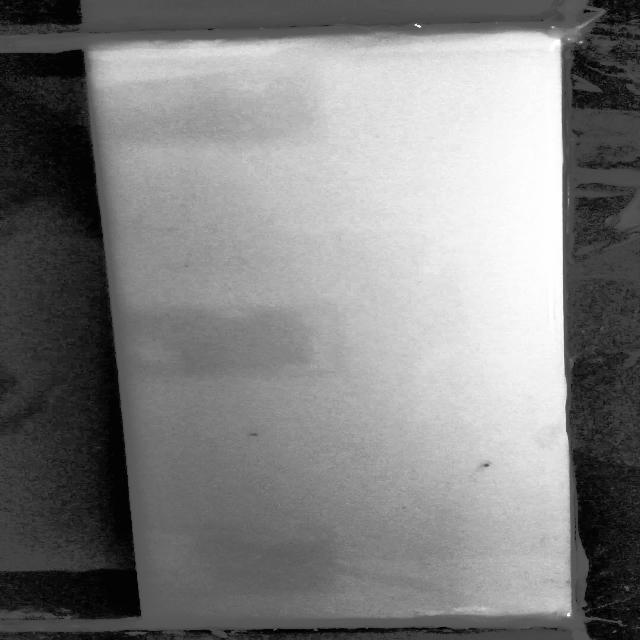shrimp: (237, 428, 267, 441), (474, 459, 495, 473)
